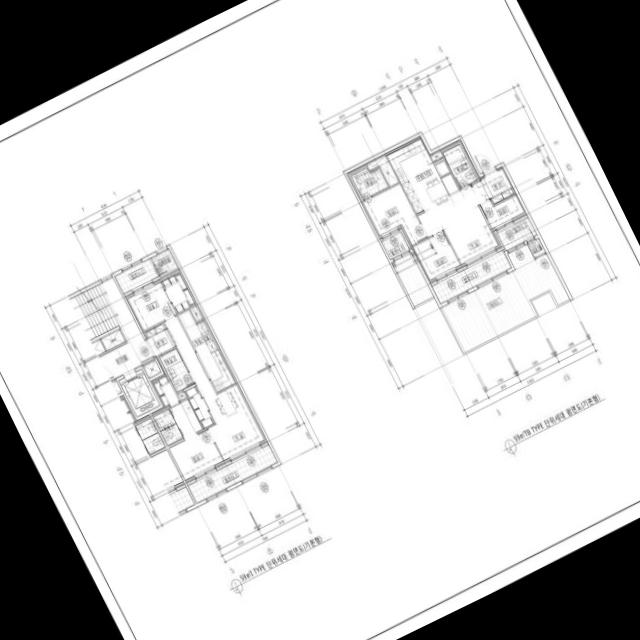background: (0, 0, 640, 640)
space_balconi: (187, 444, 277, 502), (431, 249, 511, 303), (114, 258, 158, 293), (496, 217, 536, 250), (381, 231, 409, 258)
space_bedroom: (361, 183, 426, 245), (168, 428, 223, 481), (411, 231, 461, 282), (125, 279, 175, 330), (479, 194, 526, 230)
space_dressroom: (159, 269, 196, 312), (168, 398, 201, 439), (150, 373, 178, 408)
space_elevator: (118, 368, 159, 416)
space_elevator_hall: (98, 277, 153, 380)
space_front: (143, 322, 174, 356)
space_kitchen: (385, 135, 460, 213), (177, 309, 236, 391), (478, 166, 515, 204)
space_living_room: (164, 315, 266, 462), (417, 180, 500, 266)
space_other: (184, 386, 213, 428), (366, 154, 398, 186), (100, 329, 125, 350), (142, 360, 160, 377), (189, 304, 203, 321), (91, 339, 105, 355), (429, 149, 442, 161), (177, 390, 185, 399)
space_outdoor_room: (150, 248, 178, 276), (527, 237, 545, 257)
space_staircase: (69, 283, 120, 339)
space_toilet: (441, 143, 477, 187), (158, 347, 193, 392), (350, 167, 388, 199), (152, 408, 175, 430), (160, 423, 182, 445)
